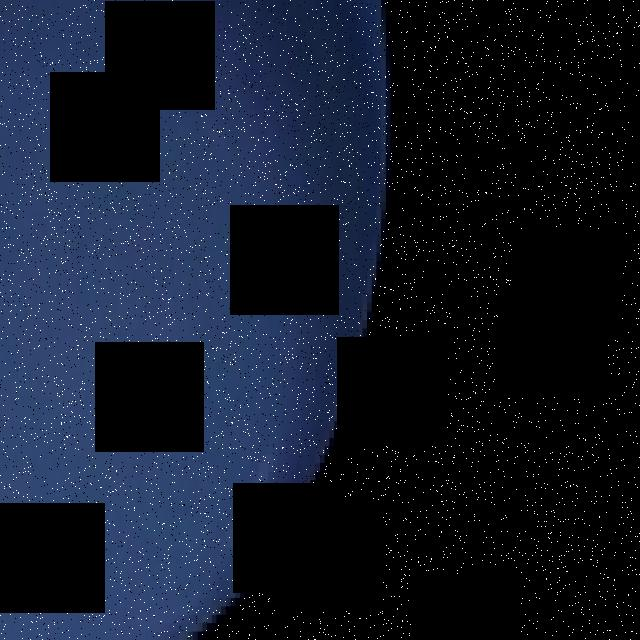Neptune: (1, 0, 390, 640)
